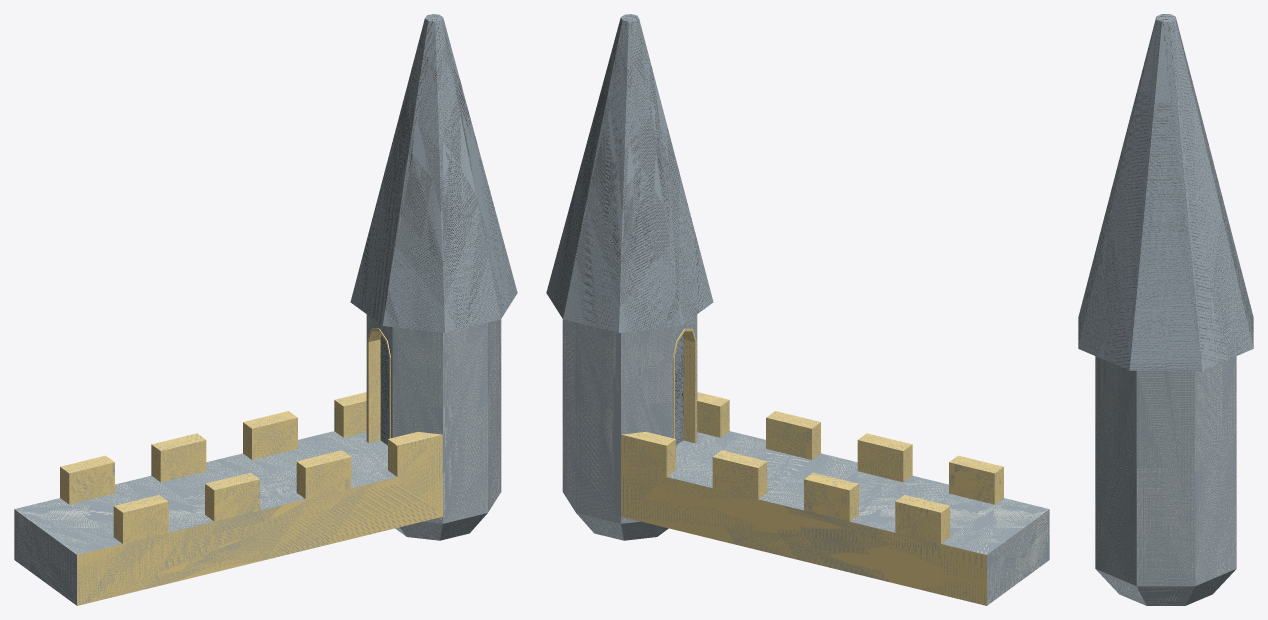
File: Castle_Turret_01.fbx
The picture shows the model from 3 angles, left to right: view 1: azimuth 30°, elevation 25°; view 2: azimuth 150°, elevation 25°; view 3: azimuth 270°, elevation 25°; orthographic projection. The views are drawn at different scales.
Visible parts, largest first — view 1: Model; view 2: Model; view 3: Model.
Part boxes in pixels (x1,y1,x2,y2): Model: [14, 14, 517, 605]; Model: [546, 14, 1049, 605]; Model: [1078, 14, 1253, 605].
Bounding box in the file's own units: 1015 × 1073 × 301.
